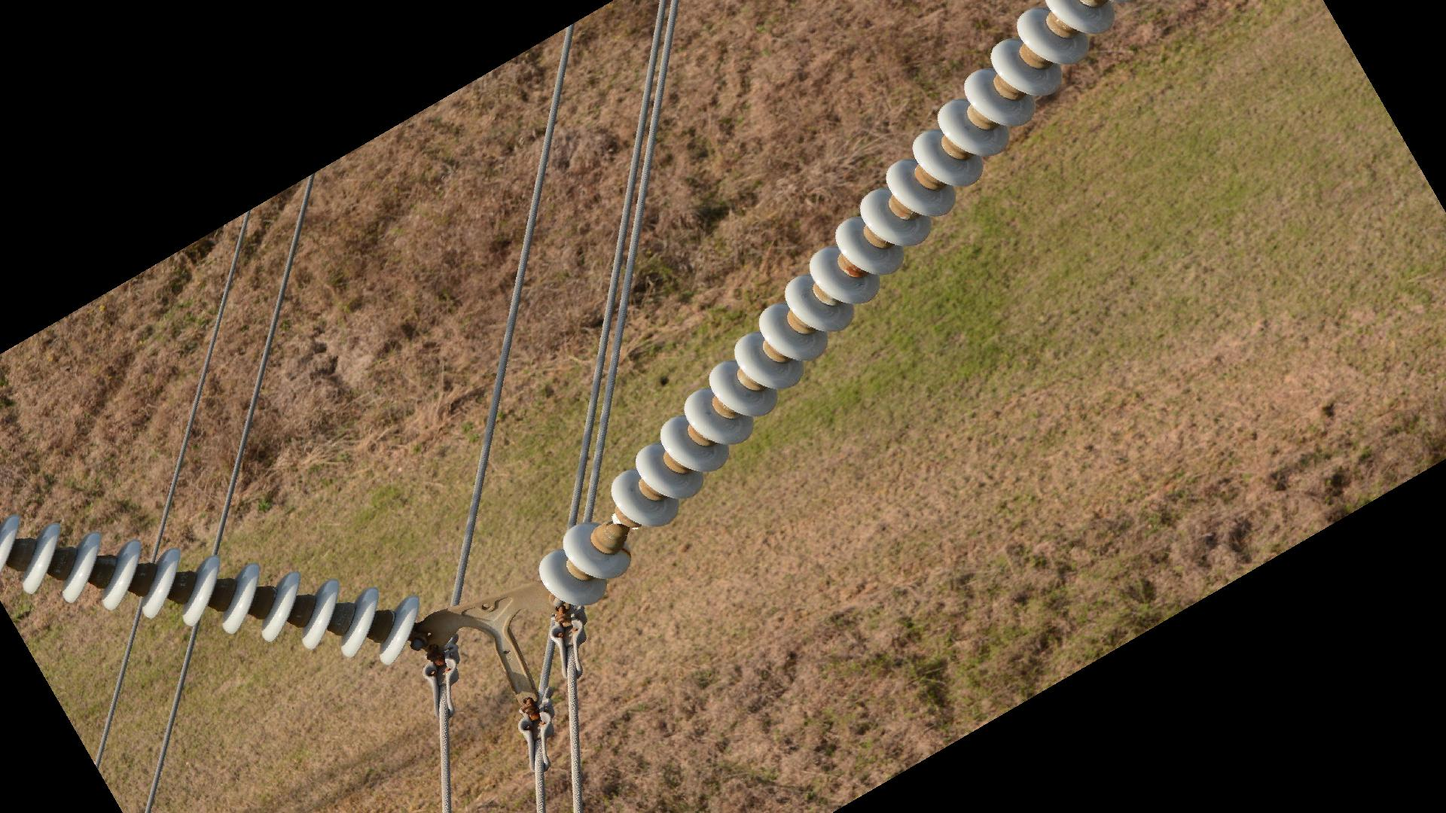insulator: (606, 1, 1121, 534), (1, 507, 426, 674), (532, 516, 637, 614)
